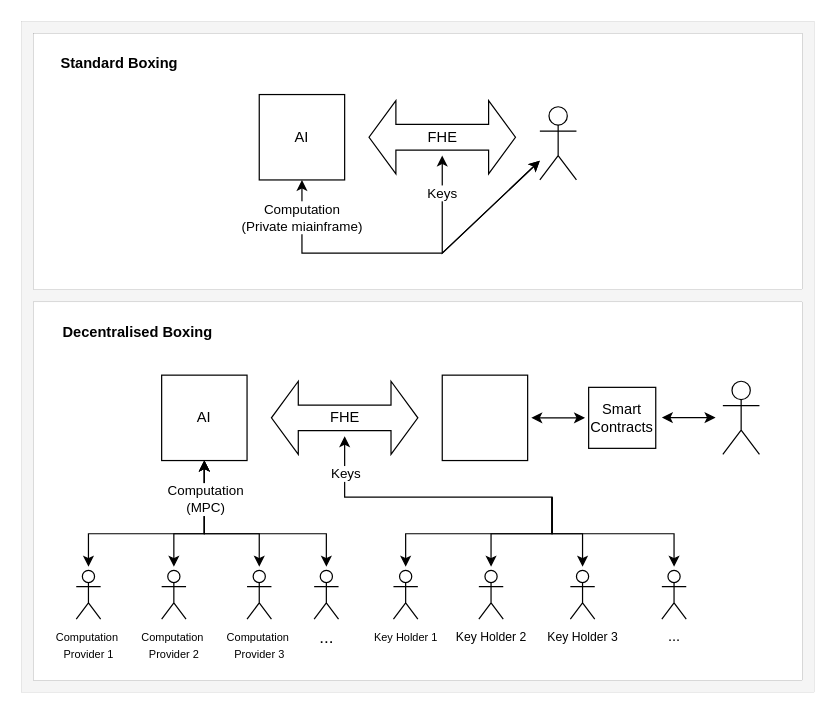
Some shapes in this 834 by 712 pixel diagram are drawn without their labels. Each missing label, with the centre of its shape:
"Project Owner" belongs at point 557,143.
"Public" belongs at point 740,417.
"Public Blockchain" belongs at point 484,417.
